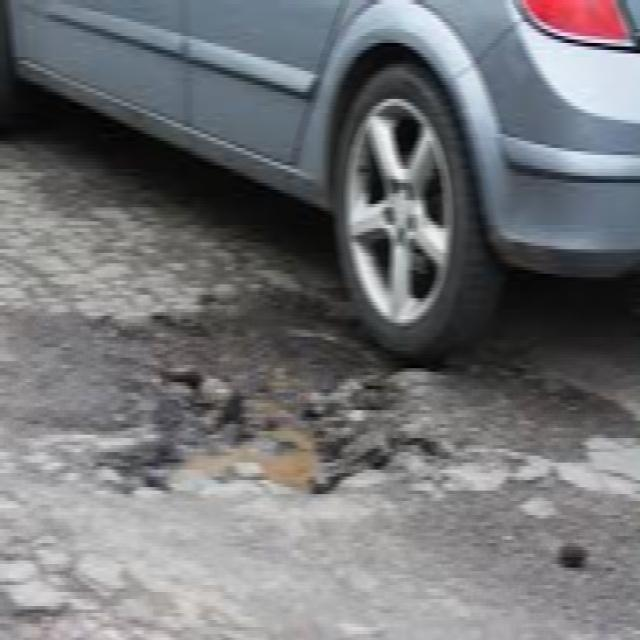Pothole: (14, 298, 640, 535)
